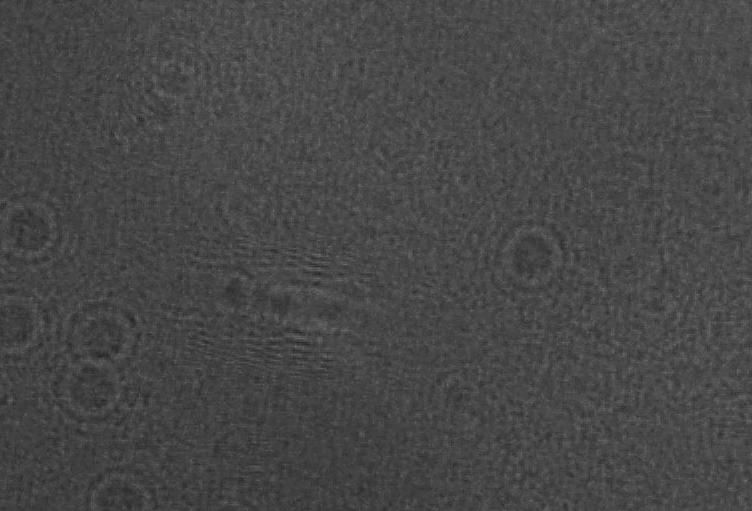bead: (53, 298, 153, 373), (48, 358, 144, 433), (491, 209, 571, 294), (0, 185, 75, 271), (73, 458, 168, 511), (0, 278, 60, 360)
